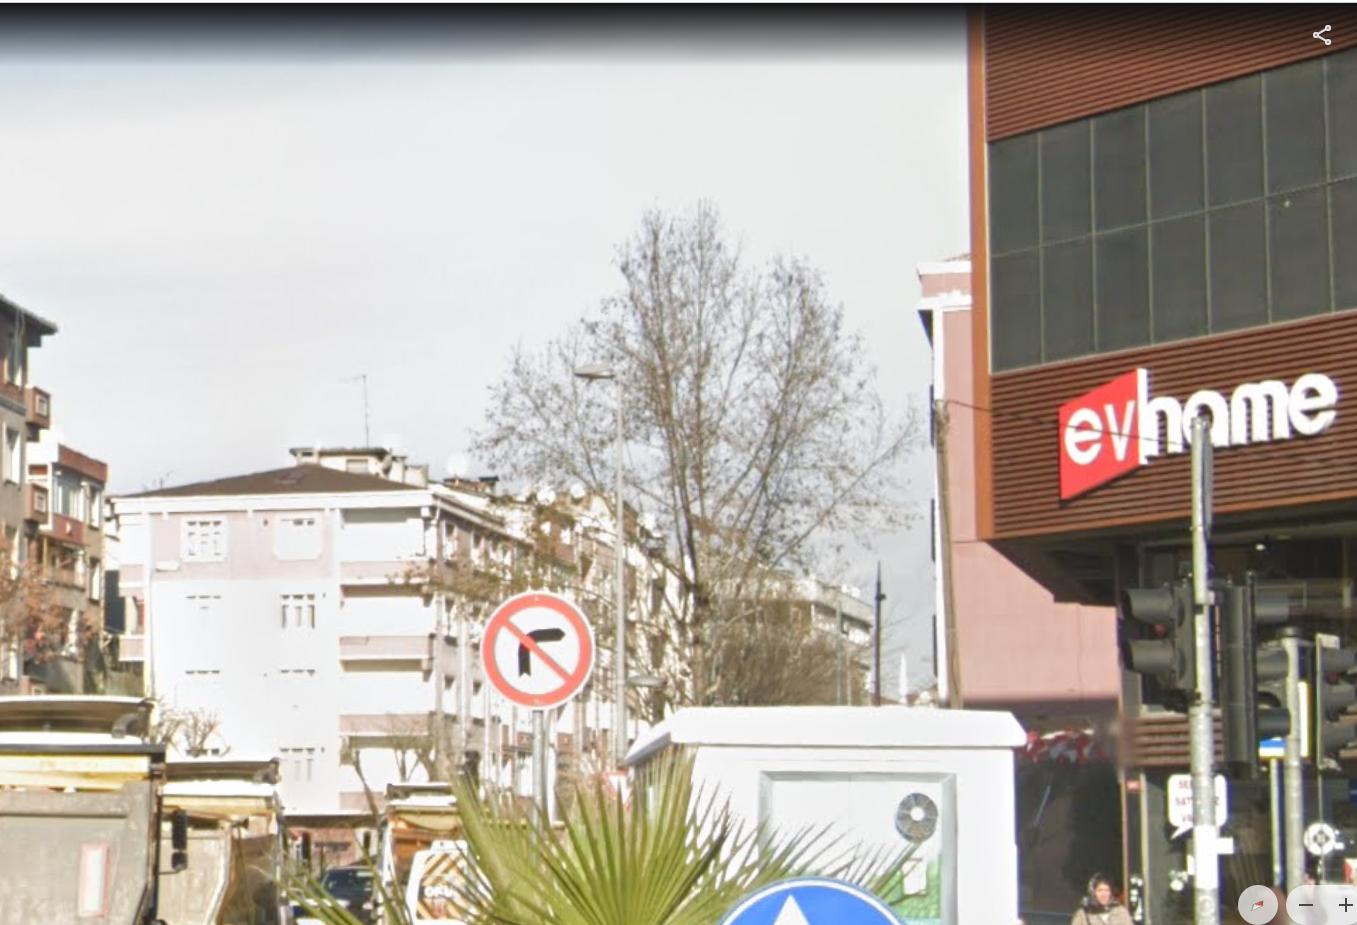rightturnsareforbidden: (486, 600, 582, 708)
